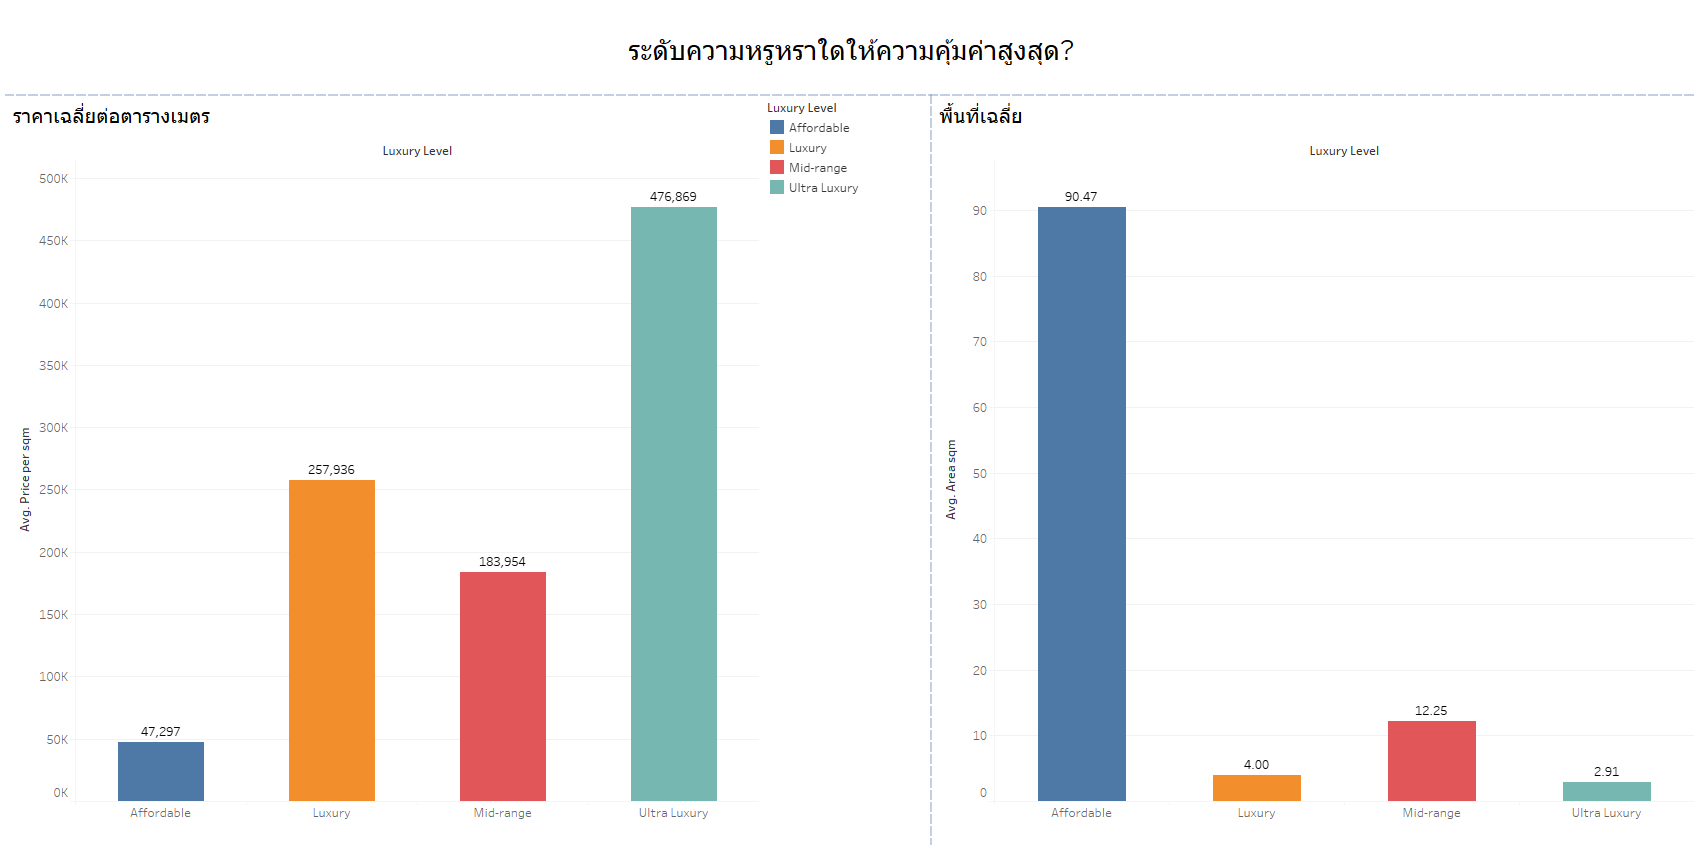

Layout of this report page (visuals, bound fields, positions):
{"tool":"tableau","page":{"name":"4.1","canvas":[1000,1000],"units":"permille","ordinal":0},"visuals":[{"type":"text","box":[4.7,9.3,990.6,105.1]},{"type":"worksheet","title":"4.1.1","mark":"Automatic","rows":["Price_per_sqm"],"cols":["Luxury_Level"],"box":[4.7,114.5,443.5,876.2]},{"type":"legend","title":"4.1.1","param":"[federated.0smkluf1eae07r1cl8knq0y6slhe].[none:Luxury_Level:nk]","box":[448.2,114.5,98.3,123.8]},{"type":"worksheet","title":"4.1.2","mark":"Automatic","rows":["Area_sqm"],"cols":["Luxury_Level"],"box":[546.5,114.5,448.8,876.2]}]}

Visuals, with their boxes on the dashboard's canvas, which has no fixed pixel size, in thousandths of its width and height (x1, y1, x2, y2). These are canvas units, not pixel positions in the 1695x847 screenshot, which may show the page scaled, cropped or inside an application window:
text: select_region(5, 9, 995, 114)
"4.1.1" worksheet: select_region(5, 114, 448, 991)
"4.1.1" legend: select_region(448, 114, 546, 238)
"4.1.2" worksheet: select_region(546, 114, 995, 991)
